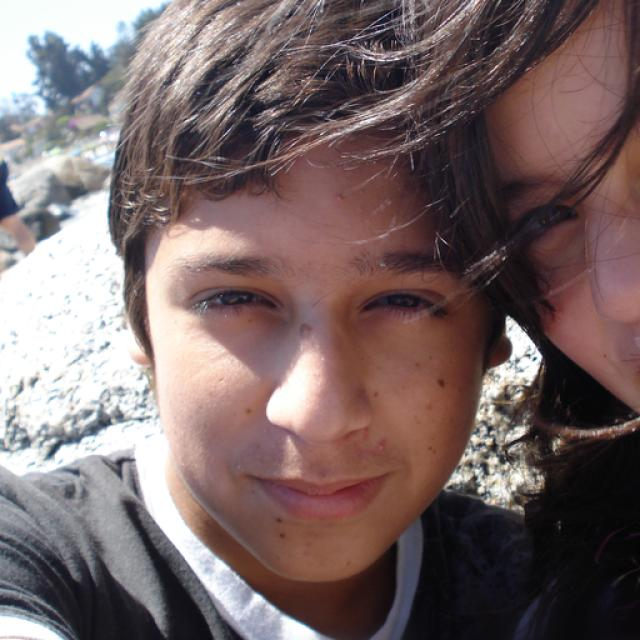Acne: (369, 435, 393, 455), (295, 323, 317, 344), (329, 191, 353, 208)
